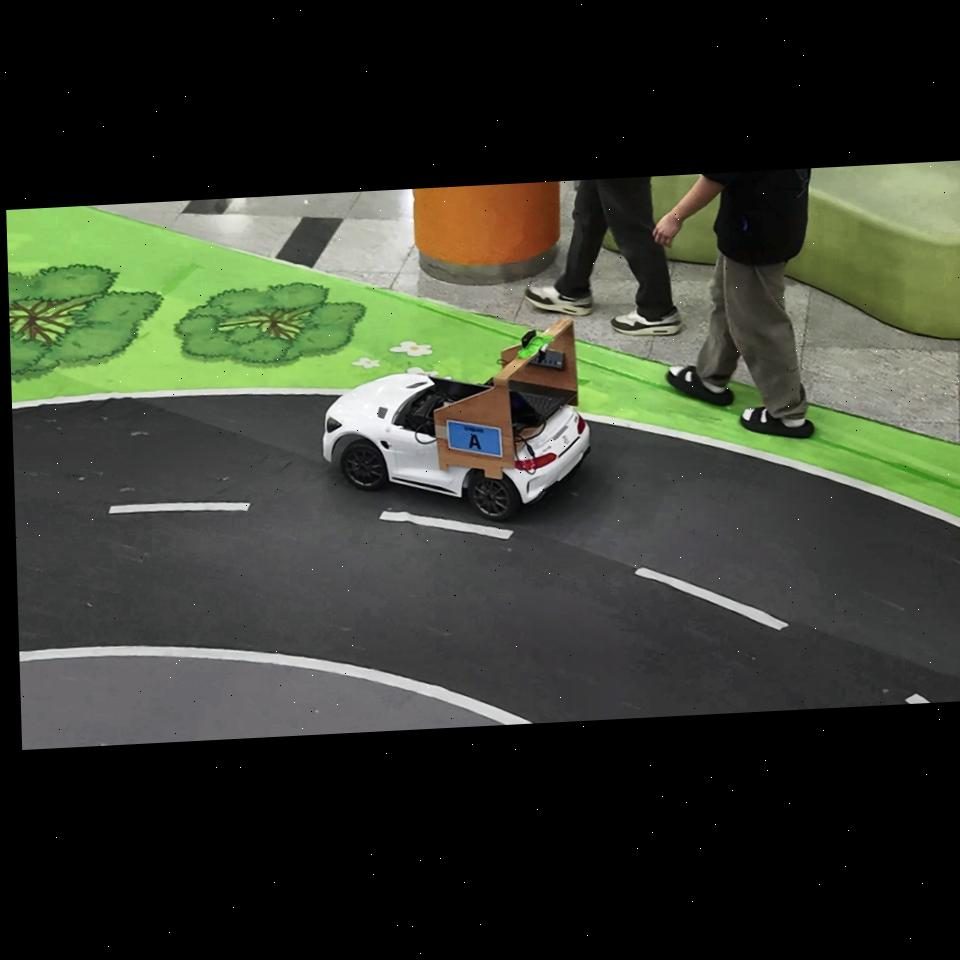broken_line: (635, 567, 789, 630), (379, 511, 514, 540), (108, 502, 250, 514), (905, 693, 931, 704)
